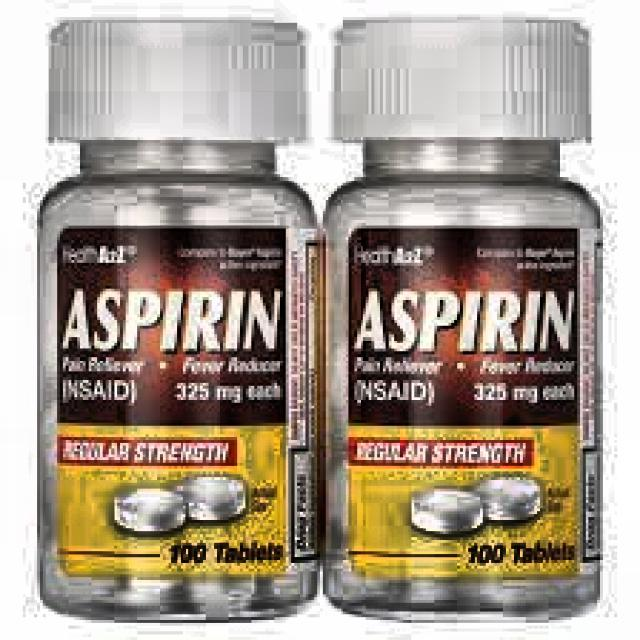Aspirin: (58, 223, 590, 424)
